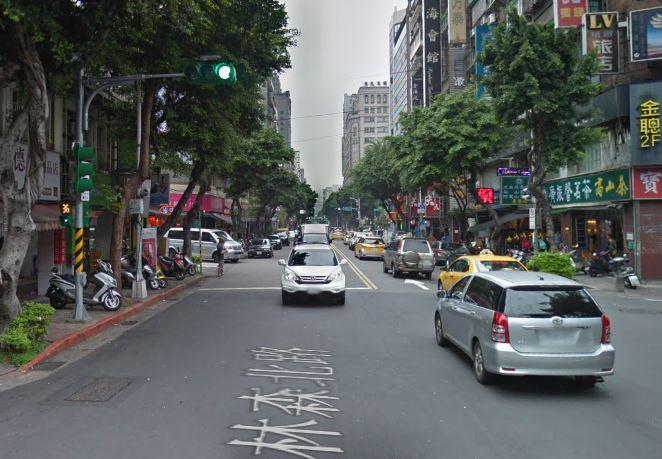Traffic_light_green: (185, 62, 239, 84)
car: (429, 266, 620, 392), (275, 234, 351, 310)
